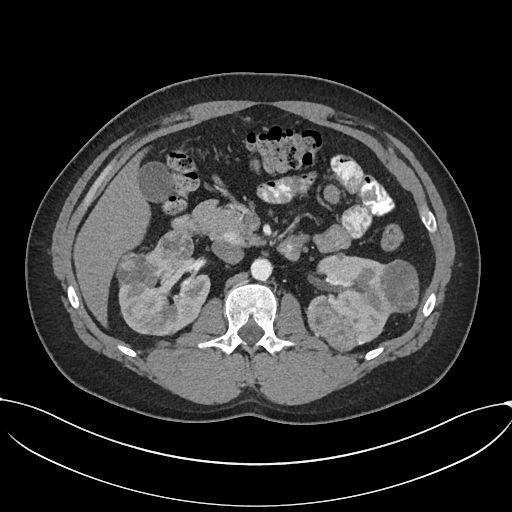Lesion: (379, 258, 424, 317), (113, 249, 156, 294)
